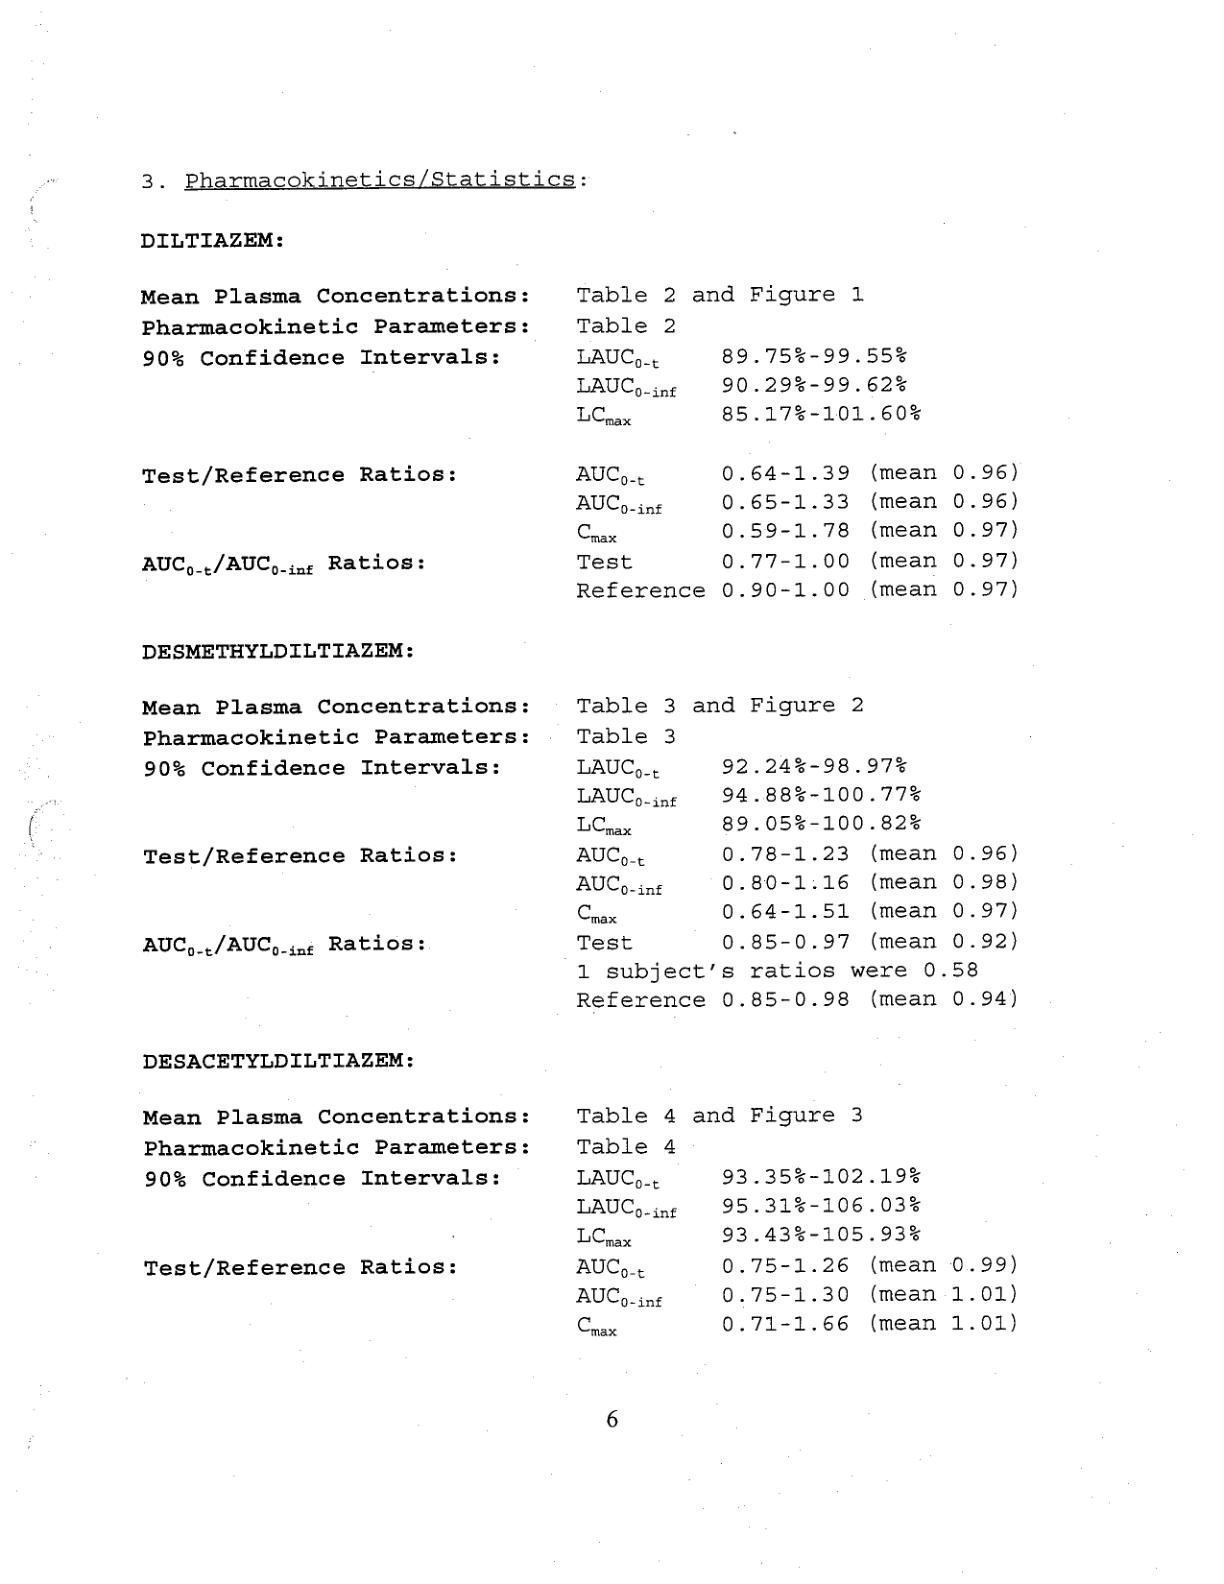nolines: (139, 698, 1023, 1014), (136, 285, 1020, 598), (139, 1104, 1020, 1337)
